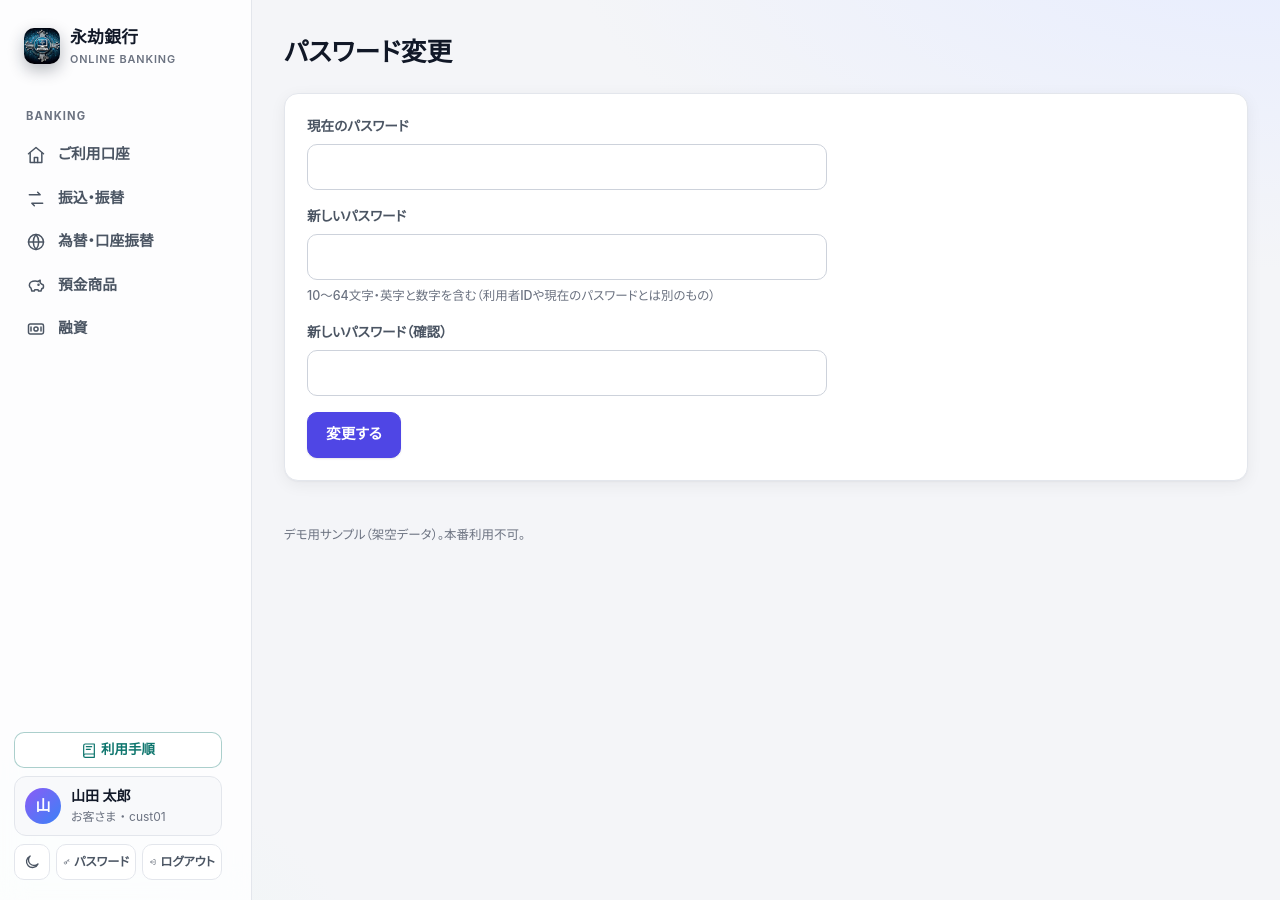
Test: PasswordPage › 確認入力が一致しなければ送信しない
In the password field labelled "現在のパスワード": (567, 167) top-left (307, 144), bottom-right (827, 190), type "OldPass2025"
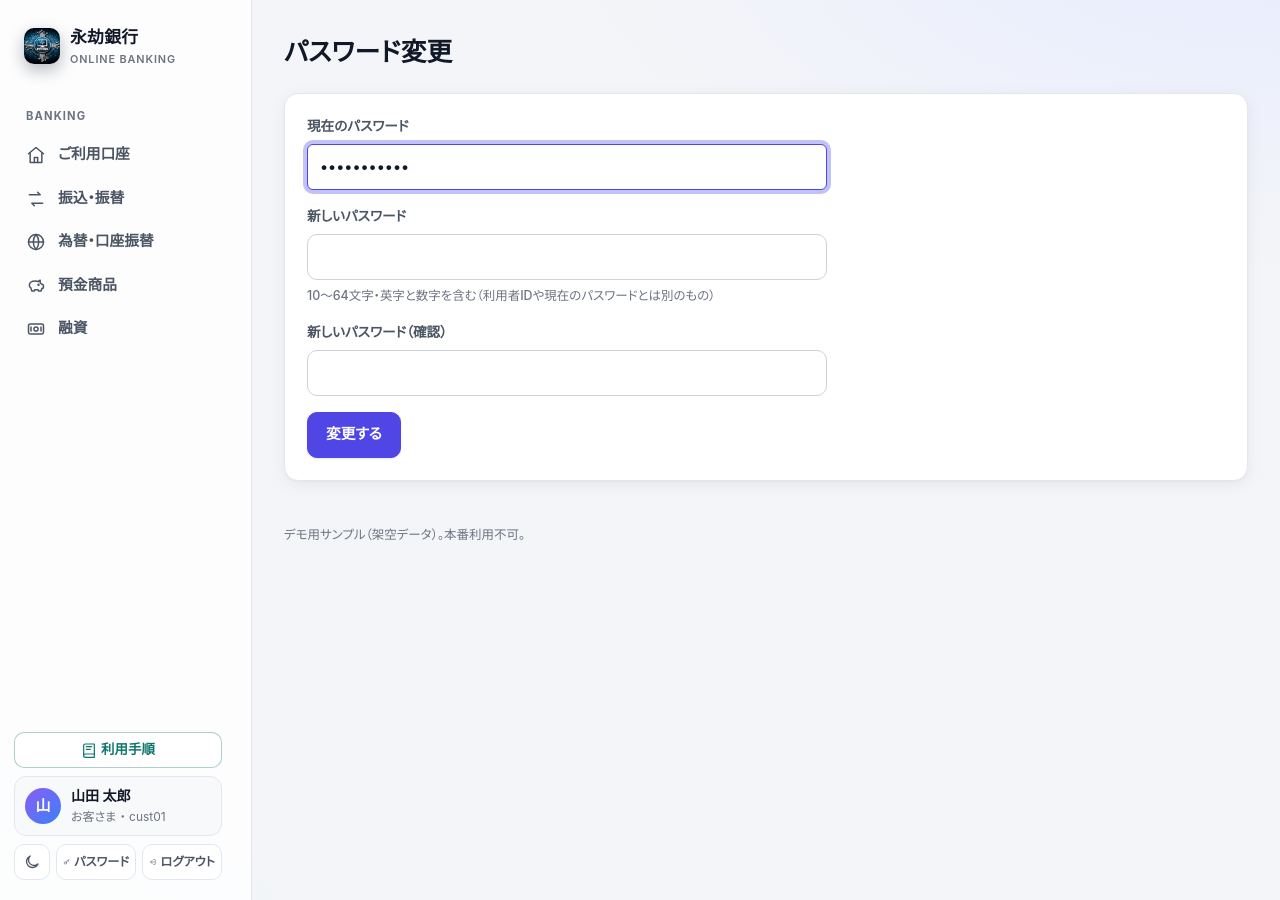
In the password field labelled "新しいパスワード 10〜64文字・英字と数字を含む（利用者IDや現在のパスワードとは別のもの）": (567, 257) top-left (307, 234), bottom-right (827, 280), type "NewPass2026x"
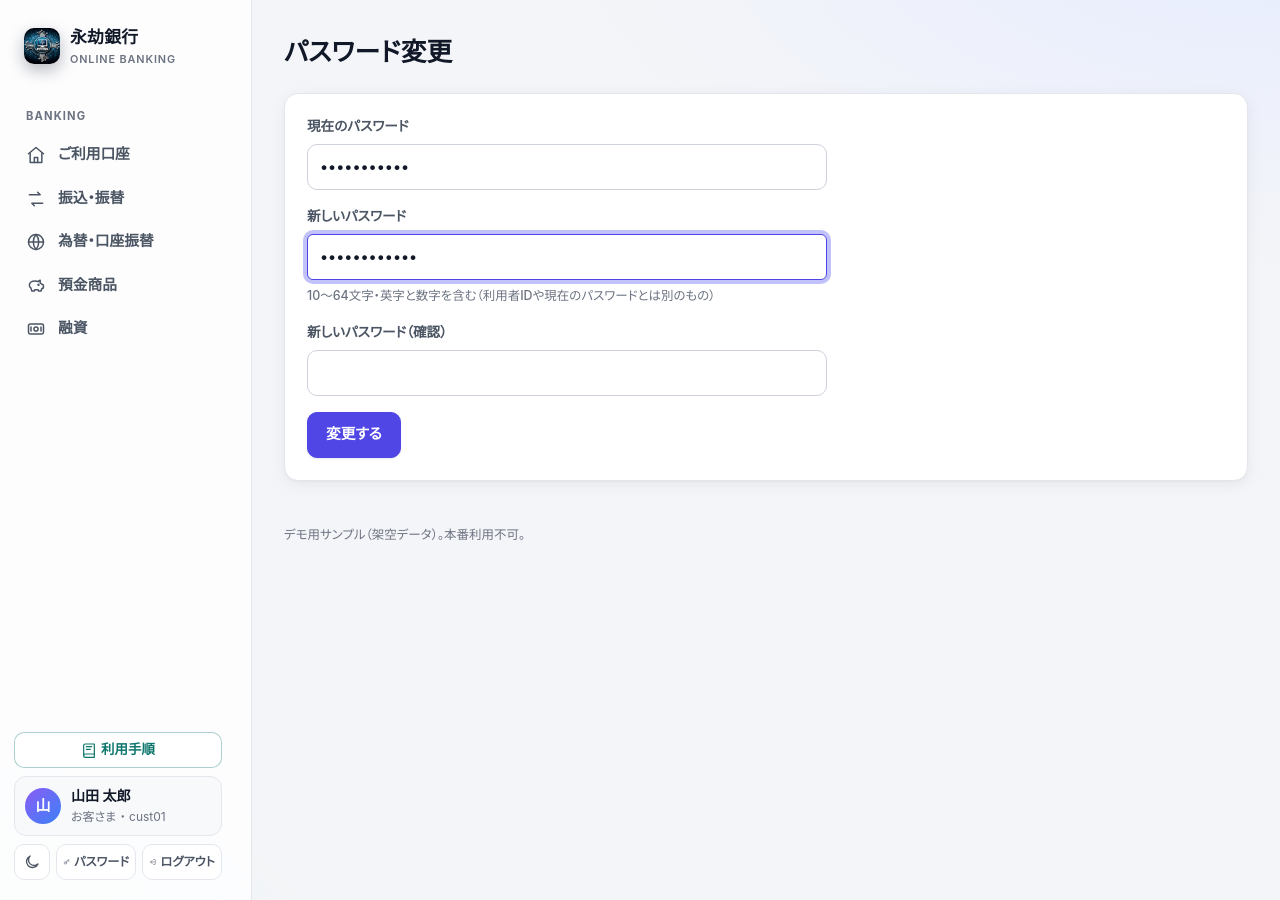
In the password field labelled "新しいパスワード（確認）": (567, 373) top-left (307, 350), bottom-right (827, 396), type "NewPass2026y"
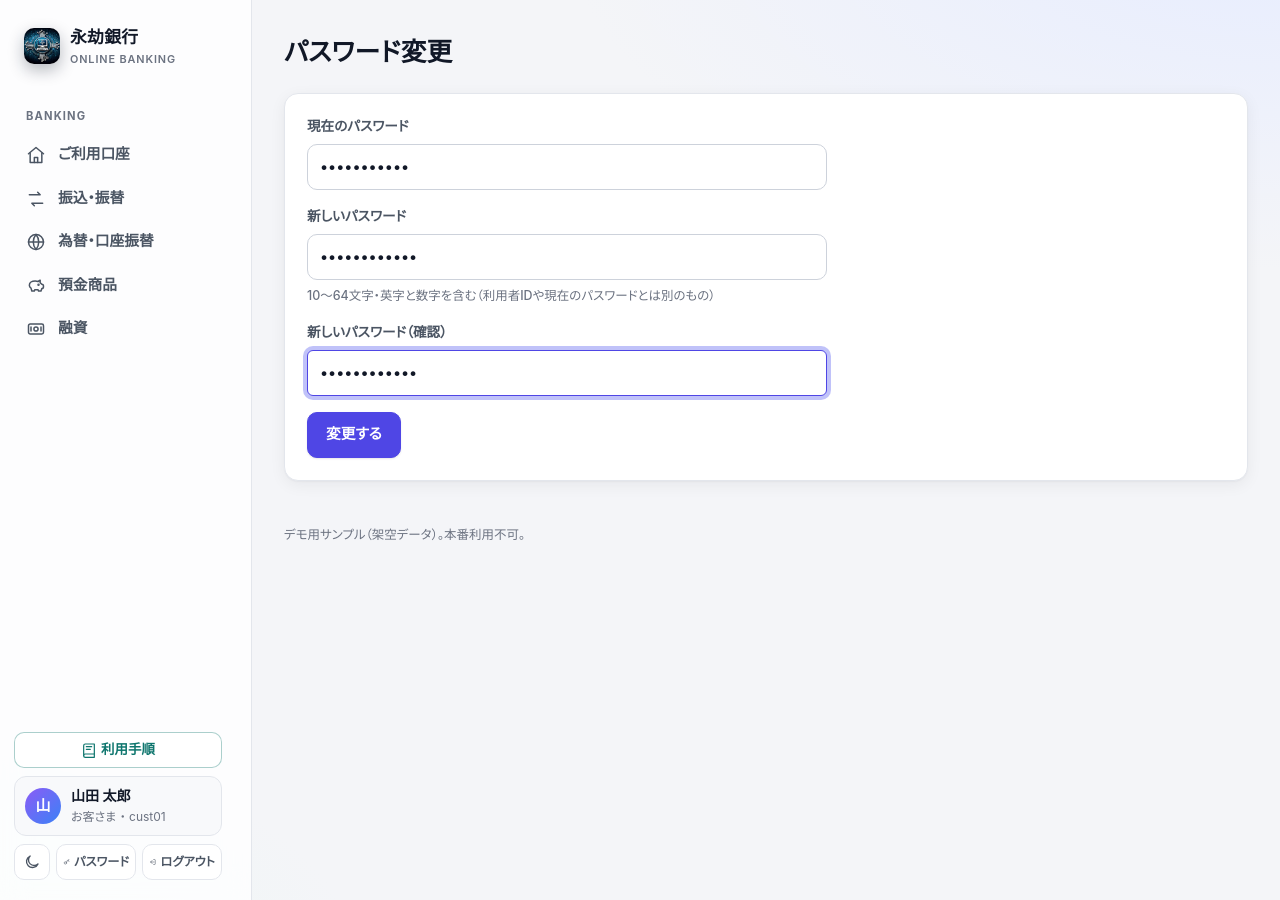
Click the button "変更する": (354, 435) top-left (307, 412), bottom-right (401, 458)
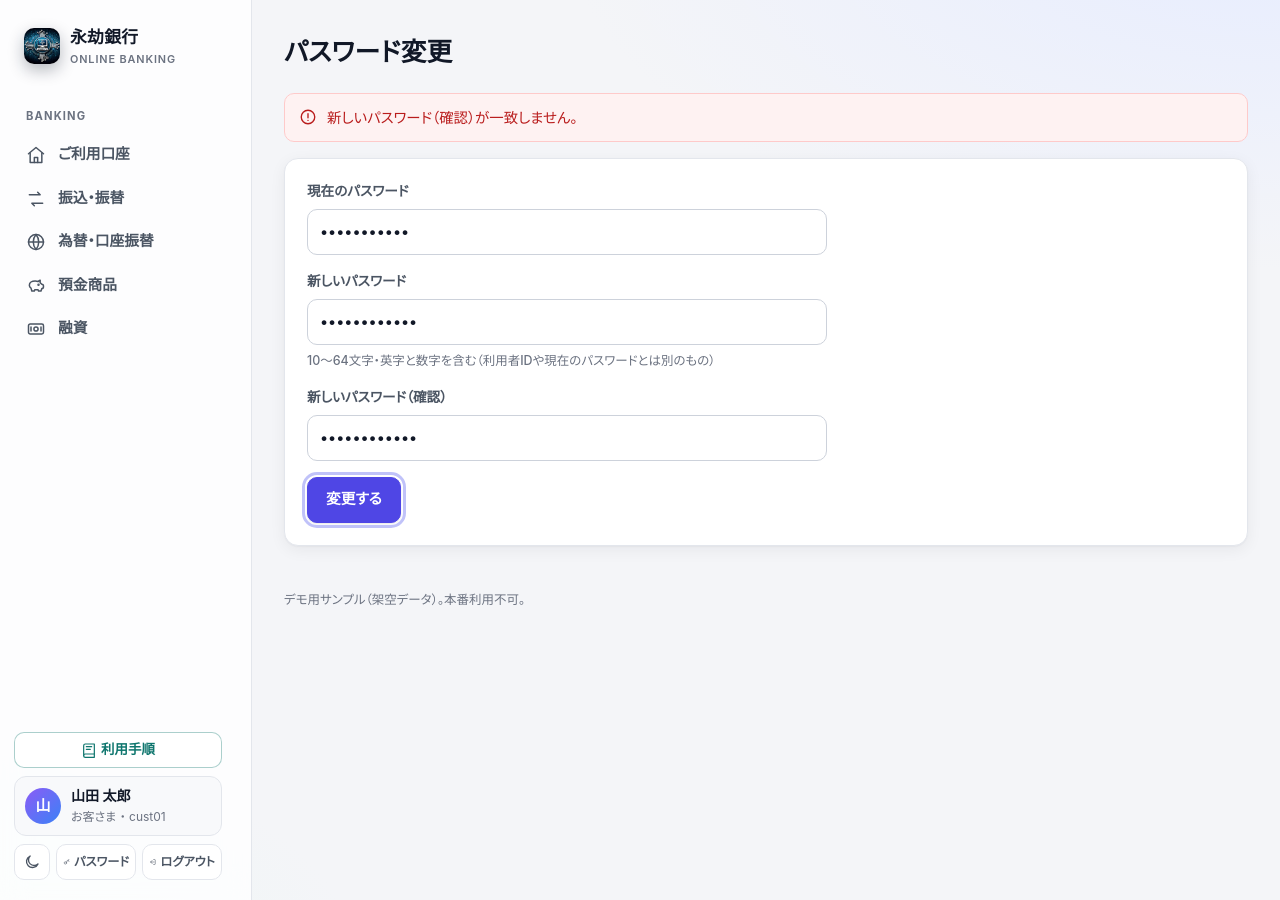
Check: the message reads "新しいパスワード（確認）が一致しません。", box top-left (327, 109), bottom-right (578, 126)
